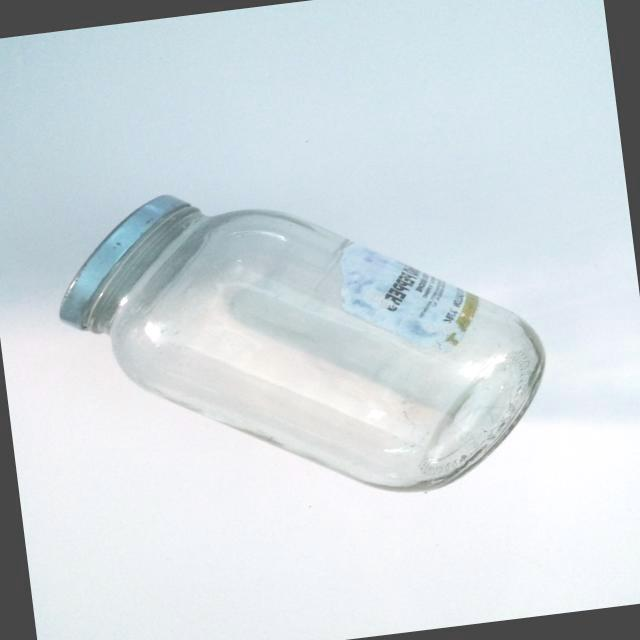glass: (40, 146, 569, 540)
